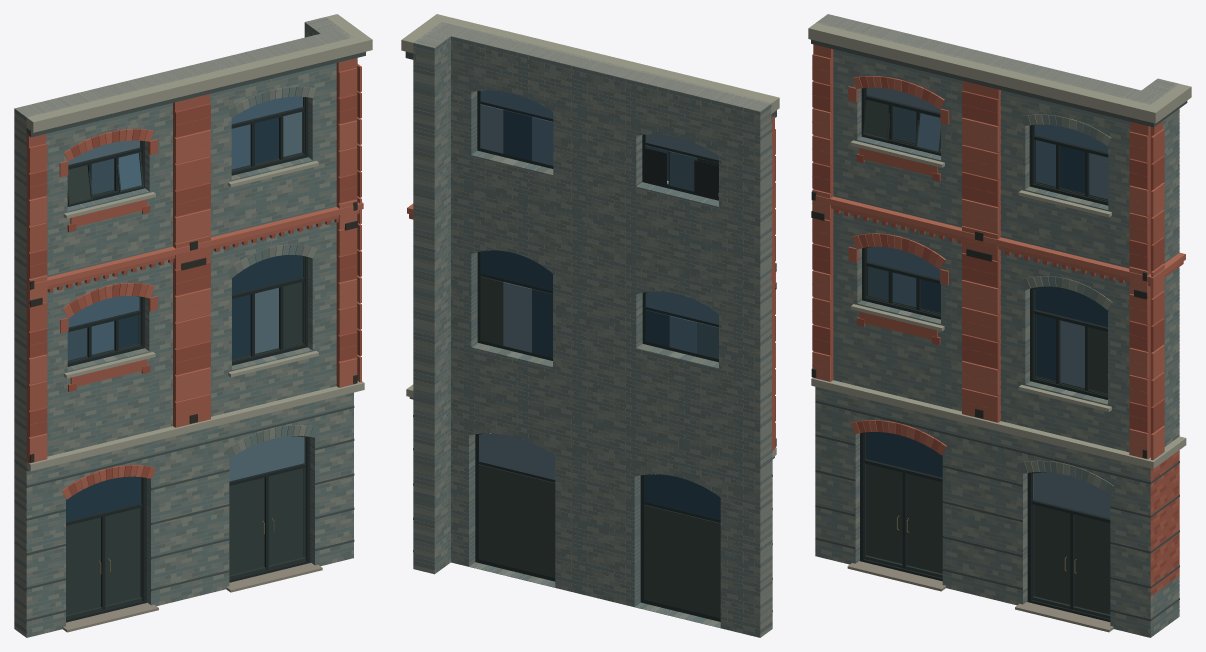
File: jingan-xintai-warehouse-brick-corner-raw.glb
3 views of the same model, side by side, from view 1: azimuth 30°, elevation 25°; view 2: azimuth 150°, elevation 25°; view 3: azimuth 330°, elevation 25° (orthographic). The views are drawn at different scales.
Visible parts, largest first — view 1: 新泰仓库东翼红砖壁柱与两跨券窗; view 2: 新泰仓库东翼红砖壁柱与两跨券窗; view 3: 新泰仓库东翼红砖壁柱与两跨券窗.
Part boxes in pixels (left/top/right/bottom): 新泰仓库东翼红砖壁柱与两跨券窗: left=14, top=14, right=372, bottom=637; 新泰仓库东翼红砖壁柱与两跨券窗: left=401, top=14, right=779, bottom=637; 新泰仓库东翼红砖壁柱与两跨券窗: left=808, top=14, right=1191, bottom=637.
Size of the model in its own units: 7.77 by 11.4 by 1.39.
23 materials, 1 textured.
